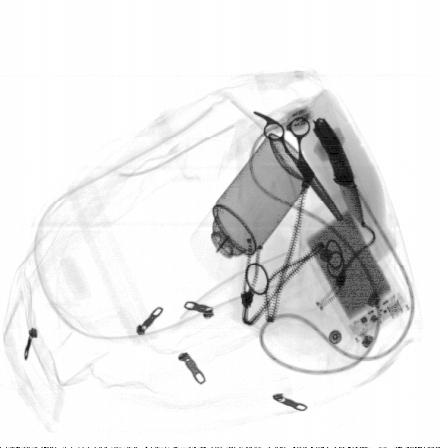Knife: (313, 116, 366, 230)
Powerbank: (294, 189, 412, 347)
Scissors: (251, 109, 346, 222)
Sprayer: (191, 132, 314, 283)
